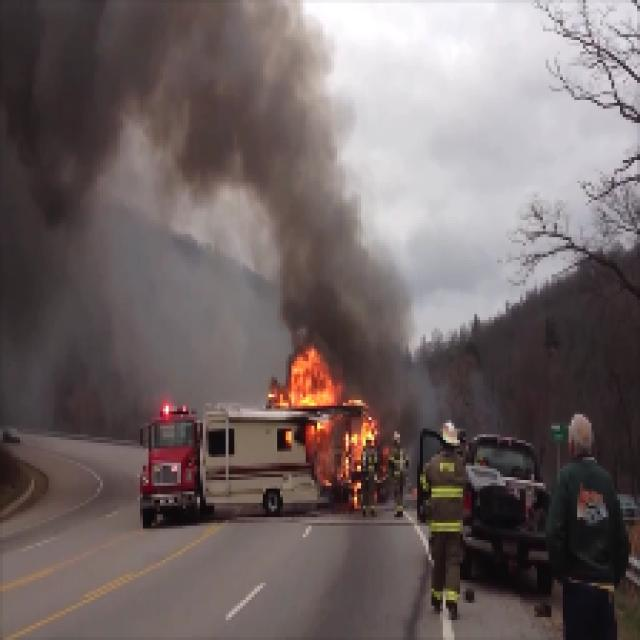fire: (286, 352, 334, 409)
smoke: (30, 5, 279, 171), (288, 180, 358, 333), (348, 338, 408, 401)
